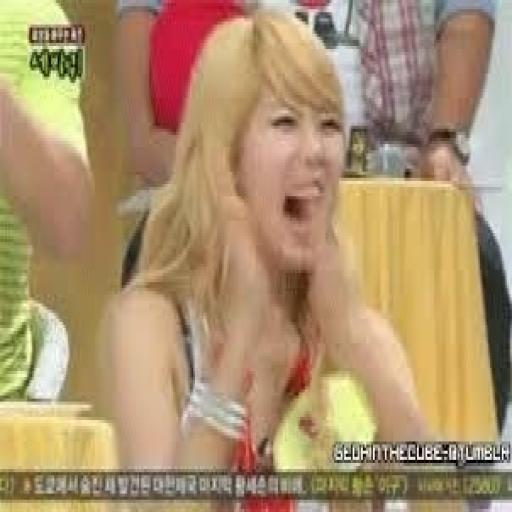laughing: (98, 10, 442, 484)
